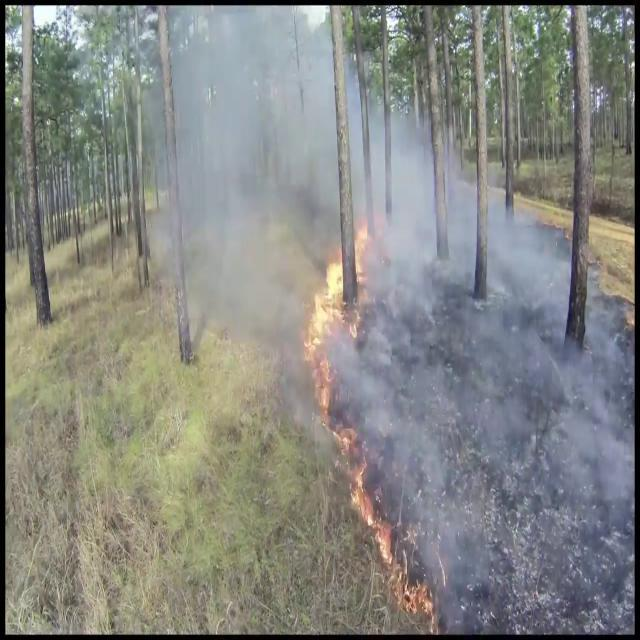Fire: (301, 220, 374, 411), (347, 464, 405, 581)
Smoke: (144, 9, 480, 371), (370, 178, 632, 626)
